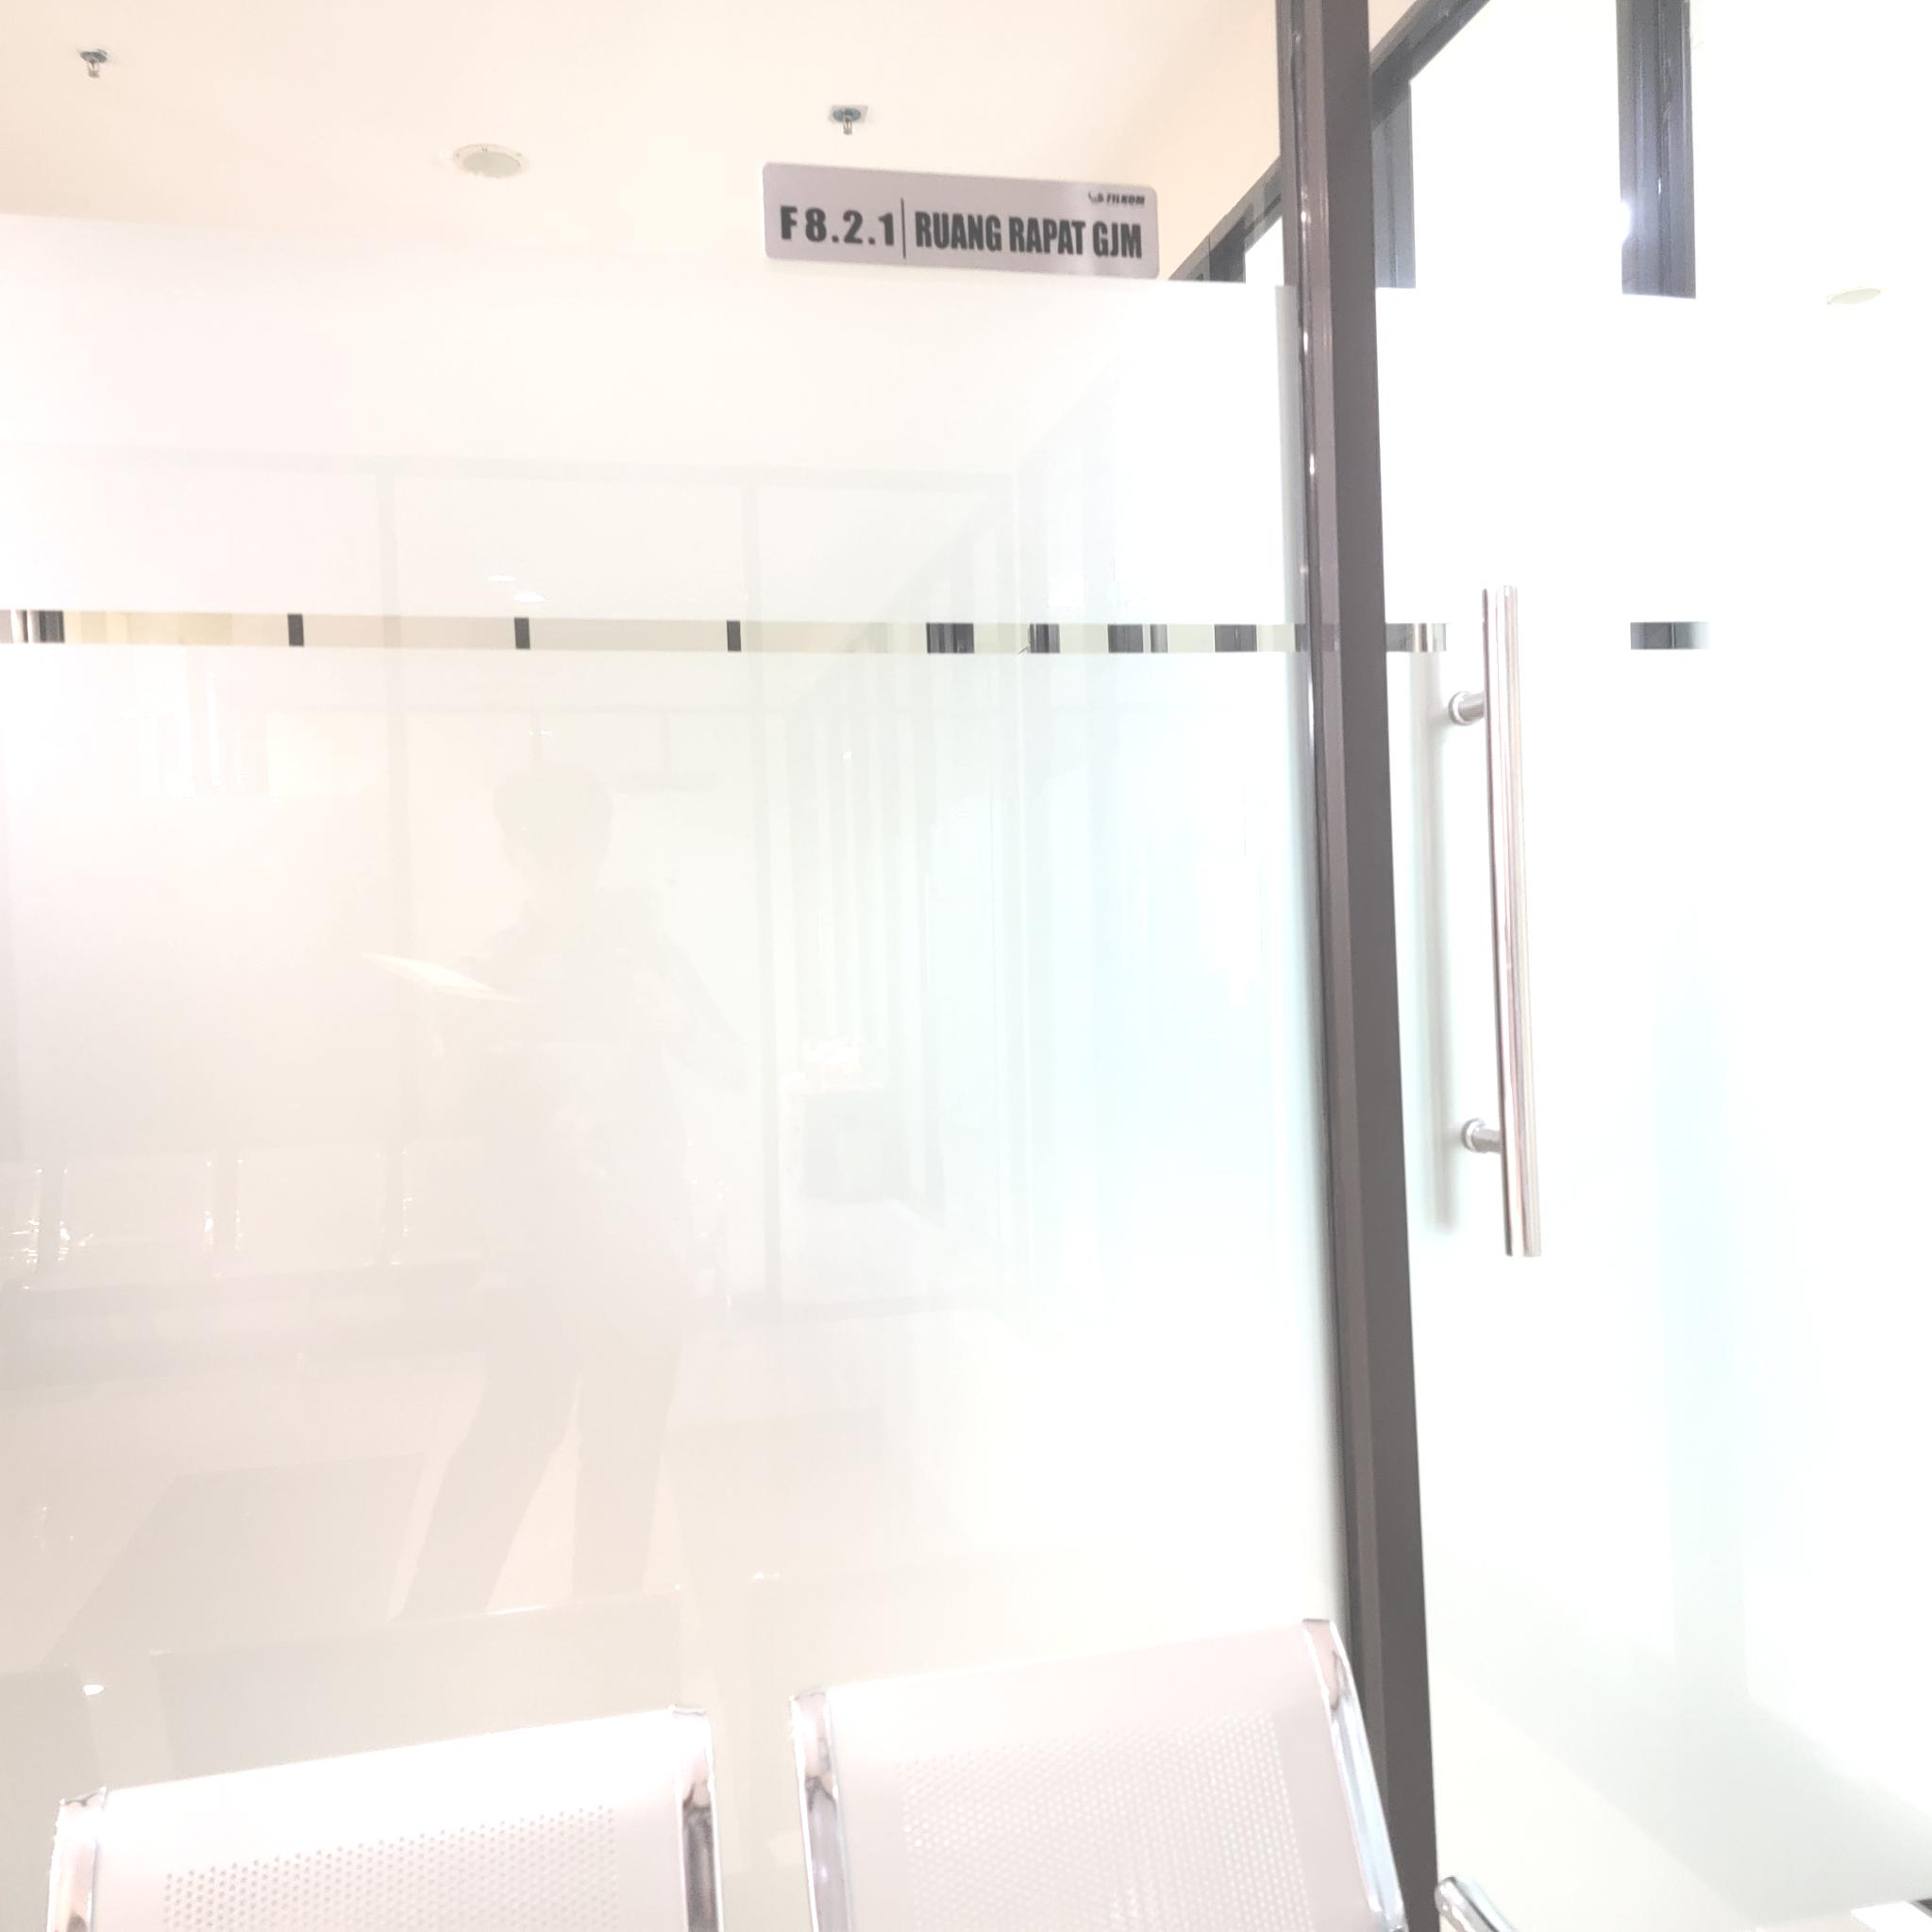plate: (763, 163, 1162, 281)
